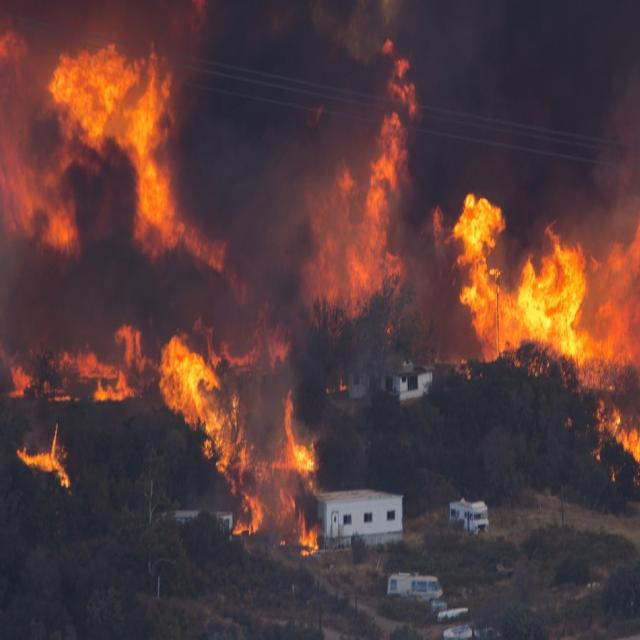fire: (460, 195, 587, 352), (229, 435, 318, 551), (64, 52, 164, 149), (364, 115, 409, 299), (162, 337, 225, 455), (595, 242, 640, 370), (135, 159, 176, 248), (18, 443, 73, 485)
